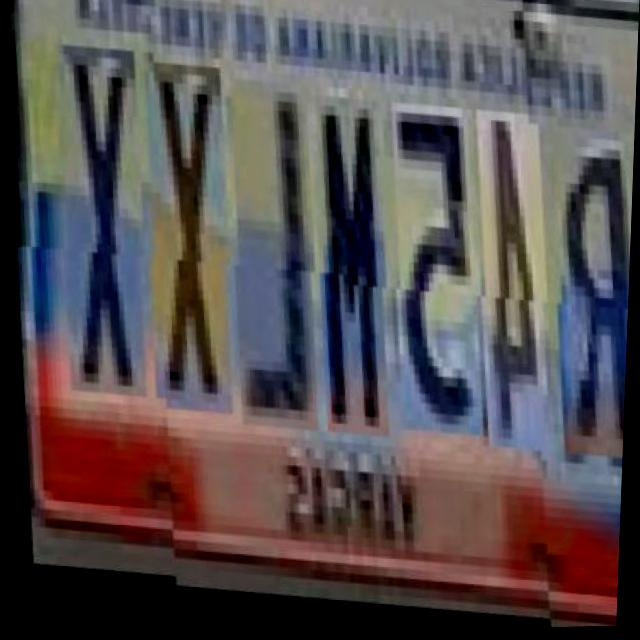4: (459, 114, 556, 460)
5: (374, 108, 488, 446)
l: (212, 88, 322, 443)
m: (298, 103, 395, 448)
r: (535, 120, 636, 457)
x: (126, 73, 237, 428), (41, 66, 152, 421)
